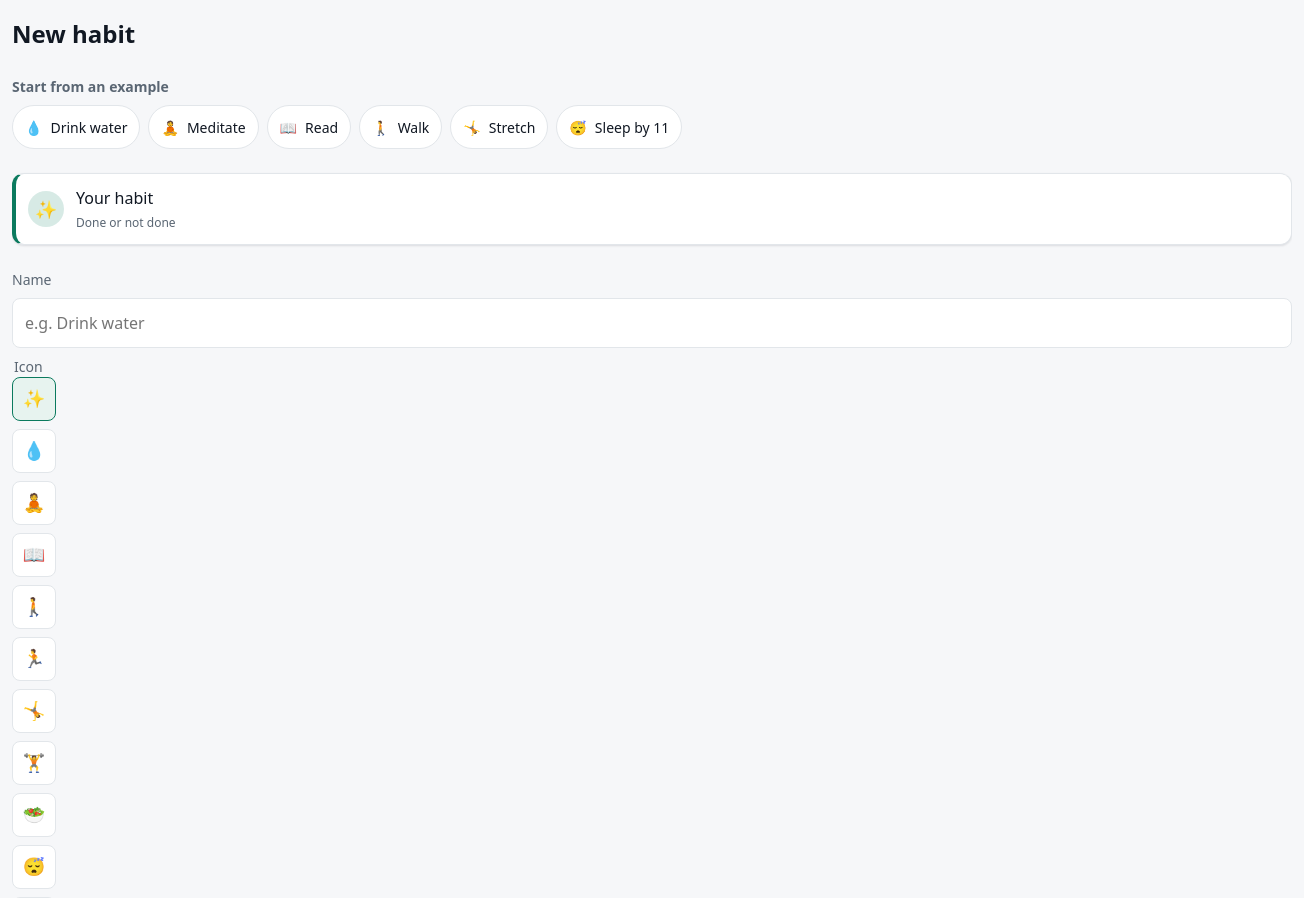
Scenario: starter templates and pickers › the preview follows what is being typed
Check: the element with class "habit-preview" shows "Your habit", box [76,187,153,209]
In the field labelled "Name": (652, 323) [12,298,1292,348], type "Journal"
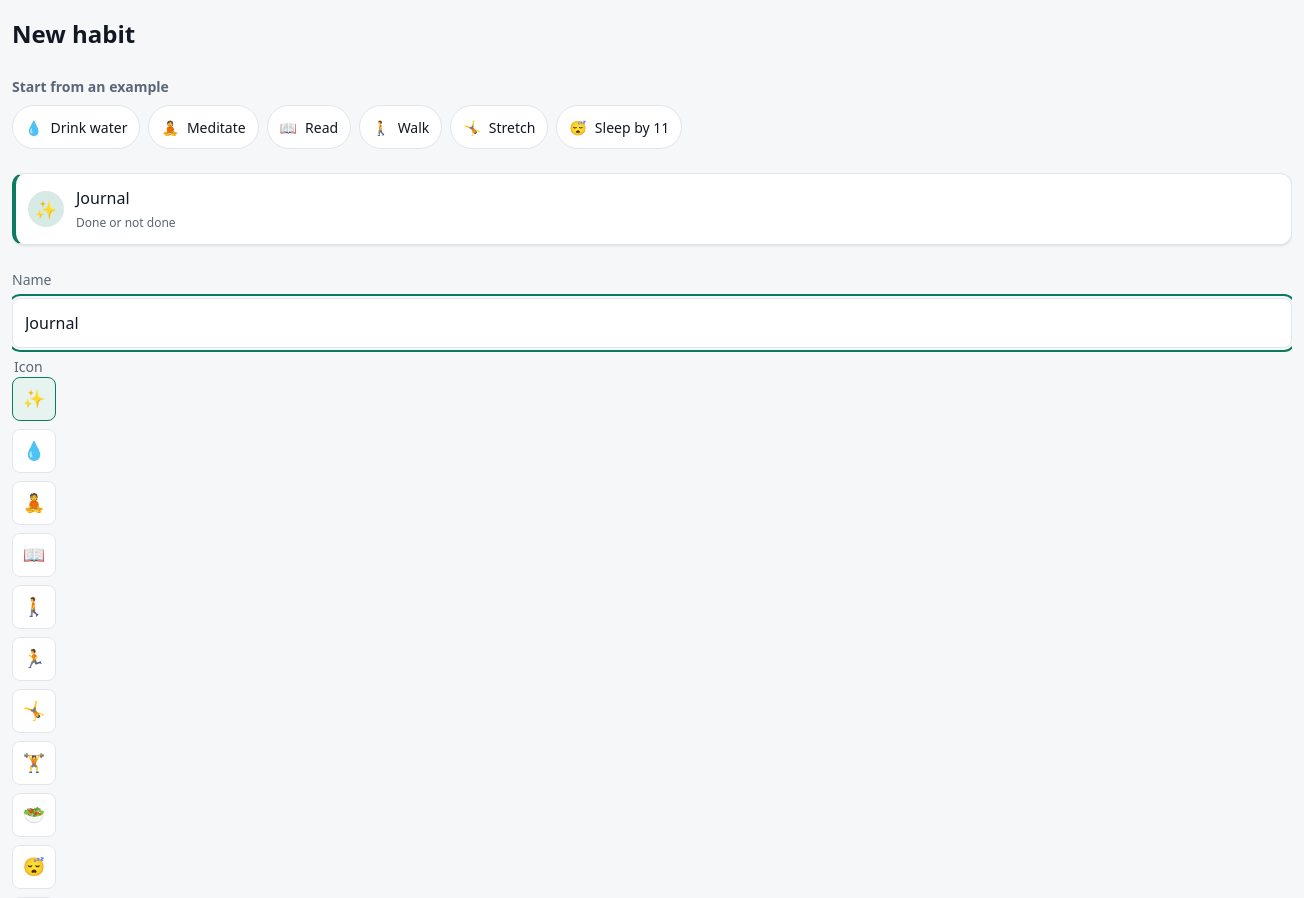
Check: the element with class "habit-preview" shows "Journal", box [76,187,130,209]
